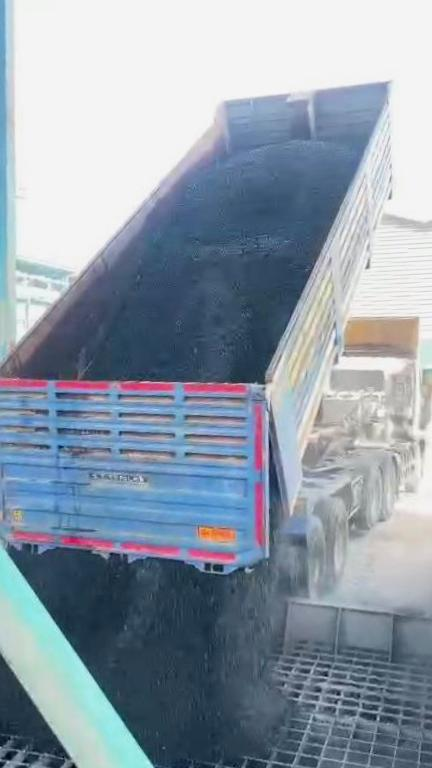gravel: (78, 141, 356, 381), (15, 550, 289, 763), (0, 637, 57, 748)
